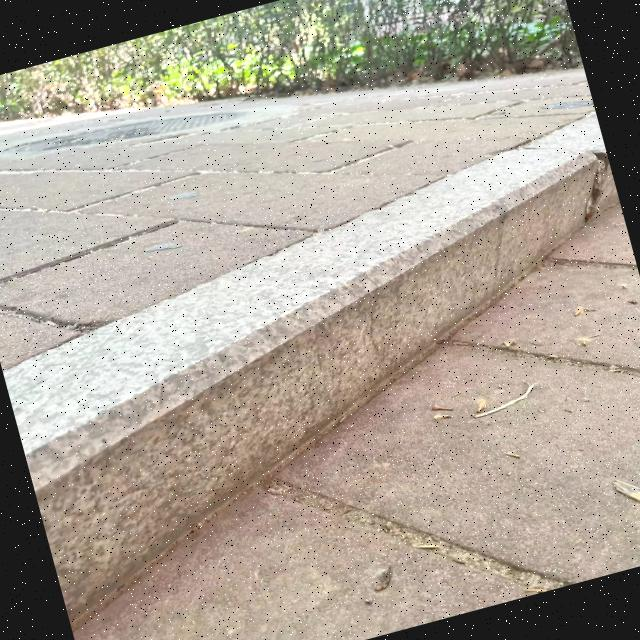curb: (1, 106, 640, 612)
